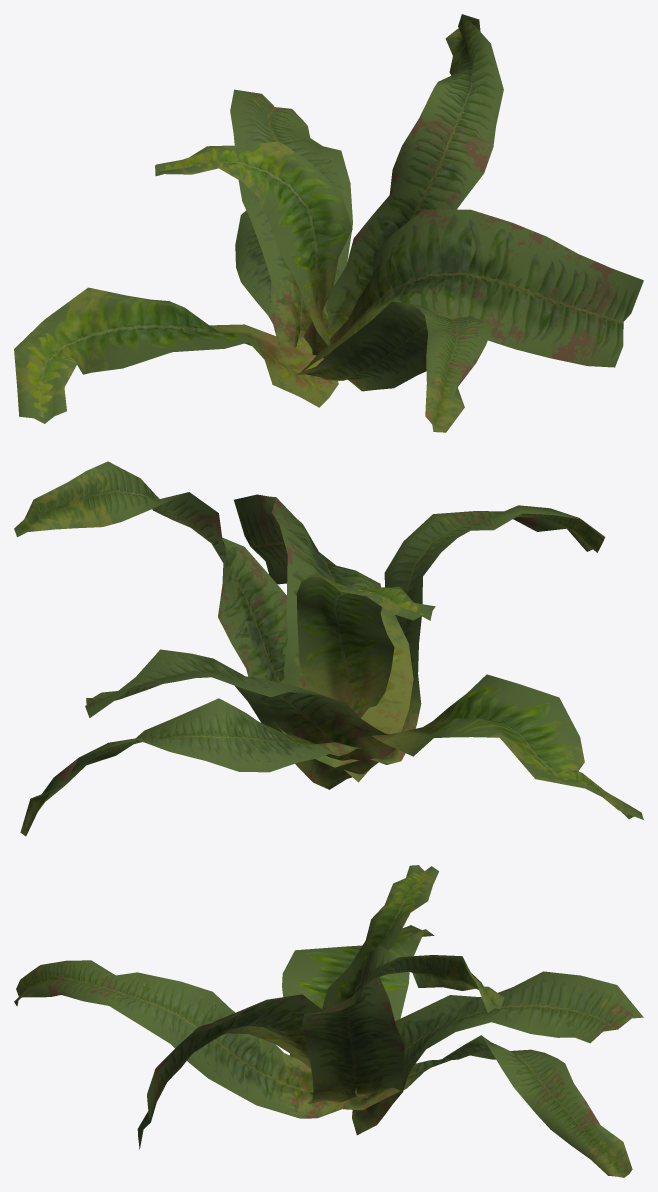
File: fern.glb
3 renders of one model, top to bottom at view 1: azimuth 30°, elevation 25°; view 2: azimuth 150°, elevation 25°; view 3: azimuth 270°, elevation 25°, orthographic. The views are drawn at different scales.
Visible parts, largest first — view 1: export_fern; view 2: export_fern; view 3: export_fern.
Boxes of the visible parts, x1=… form: export_fern: x1=14, y1=14, x2=643, y2=432; export_fern: x1=14, y1=461, x2=643, y2=836; export_fern: x1=14, y1=865, x2=643, y2=1177.
Bounding box in the file's own units: 0.5519 × 0.2868 × 0.6134.
Materials: 1 (1 with a texture image).
